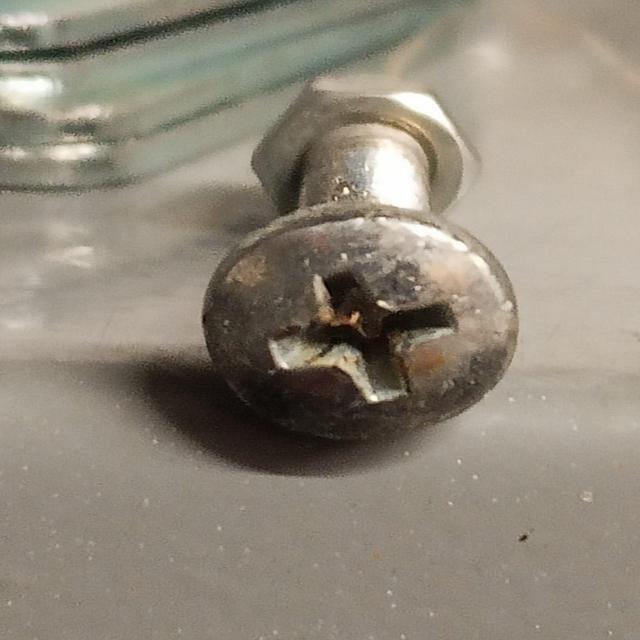phillips: (202, 212, 520, 442)
